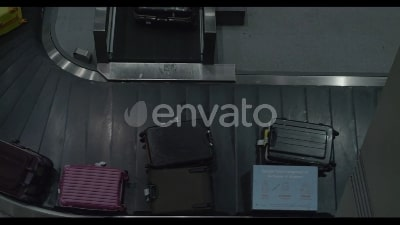baggage: (53, 161, 135, 217), (257, 118, 340, 170), (244, 161, 320, 216), (144, 164, 218, 219), (139, 120, 220, 168)
